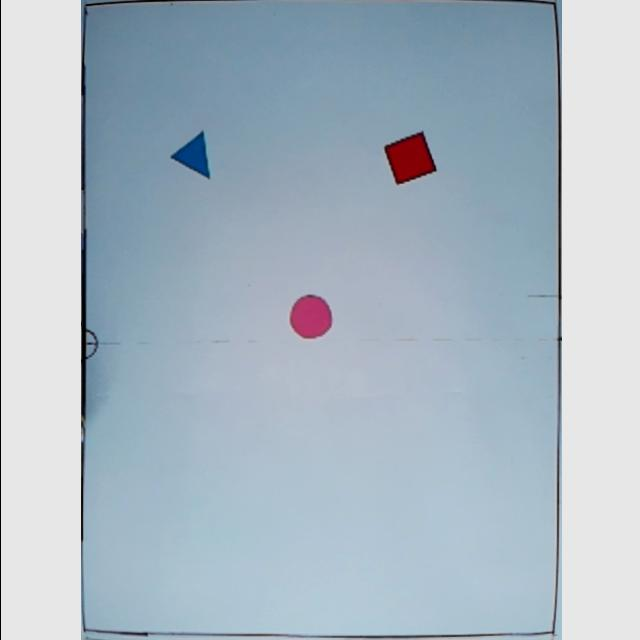blueTriangle: (165, 128, 212, 182)
pinkCircle: (286, 292, 330, 341)
redSquare: (379, 130, 436, 186)
